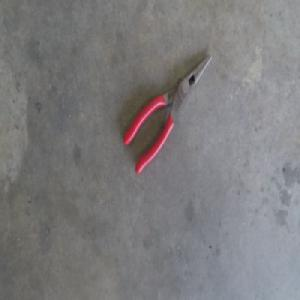Pliers: (122, 52, 212, 177)
